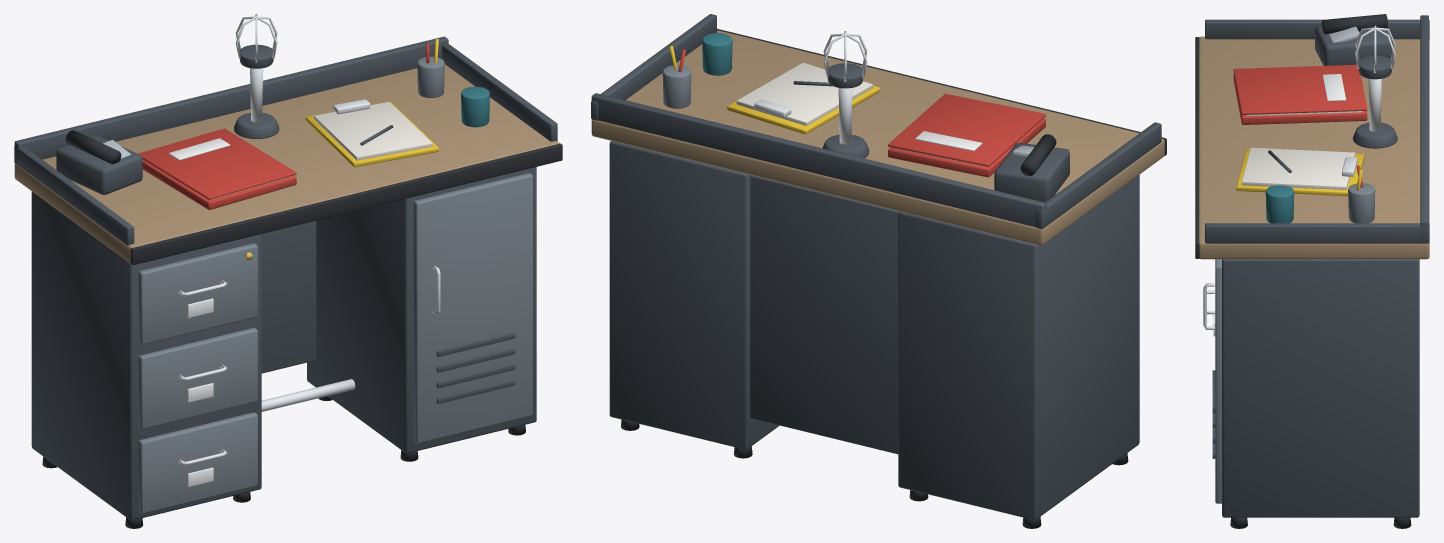
File: permit-desk.glb
The picture shows the model from 3 angles, left to right: view 1: azimuth 30°, elevation 25°; view 2: azimuth 150°, elevation 25°; view 3: azimuth 270°, elevation 25°; orthographic projection. The views are drawn at different scales.
Visible parts, largest first — view 1: PermitDeskAssembly; view 2: PermitDeskAssembly; view 3: PermitDeskAssembly.
Part boxes in pixels (x1,y1,x2,y2): PermitDeskAssembly: (14,14,562,528); PermitDeskAssembly: (591,14,1166,528); PermitDeskAssembly: (1195,14,1429,528).
Size of the model in its own units: 1.44 by 1.32 by 0.689.
